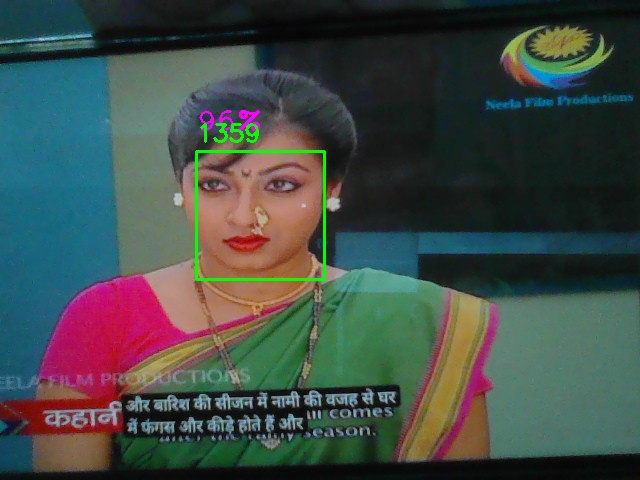fake: (196, 151, 325, 280)
